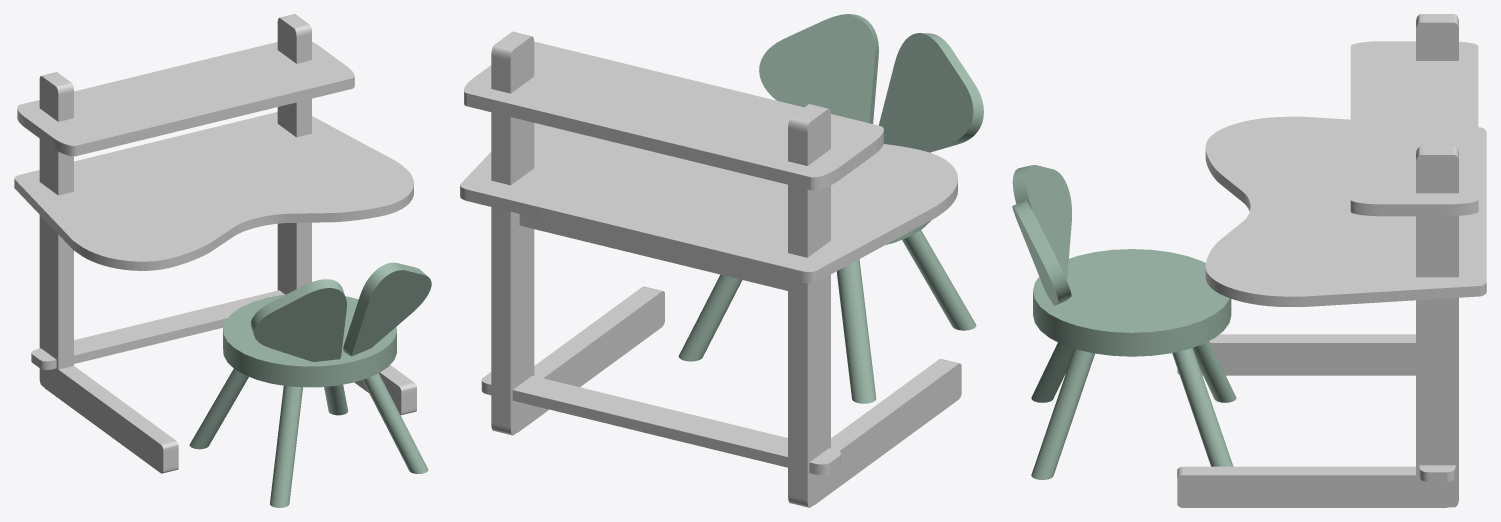
File: Furn3_worktable_color1_joined.fbx
3 renders of one model, left to right at view 1: azimuth 30°, elevation 25°; view 2: azimuth 150°, elevation 25°; view 3: azimuth 270°, elevation 25°, orthographic. The views are drawn at different scales.
Parts seen in each view (by area): view 1: Цилиндр.038; view 2: Цилиндр.038; view 3: Цилиндр.038.
Boxes of the visible parts, x1,y1,x2,y2 form: Цилиндр.038: (14,14,431,507); Цилиндр.038: (460,14,983,507); Цилиндр.038: (1012,14,1486,507).
Bounding box in the file's own units: 213 × 195 × 238.
